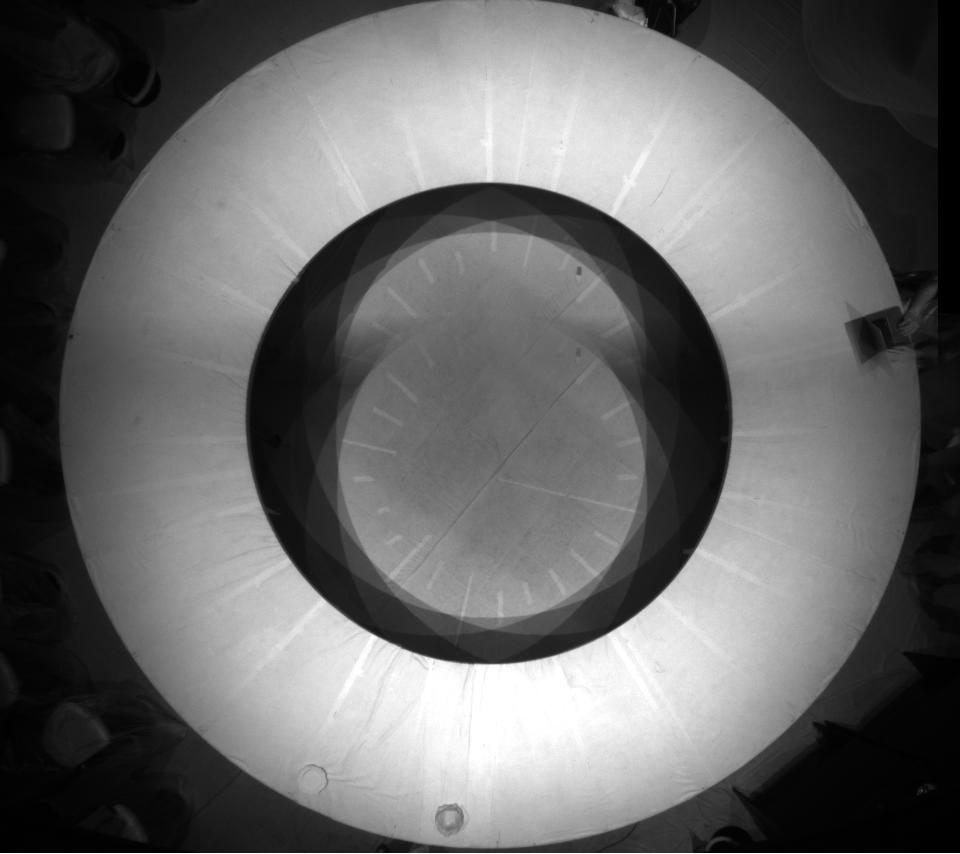Plate: (432, 798, 470, 839)
